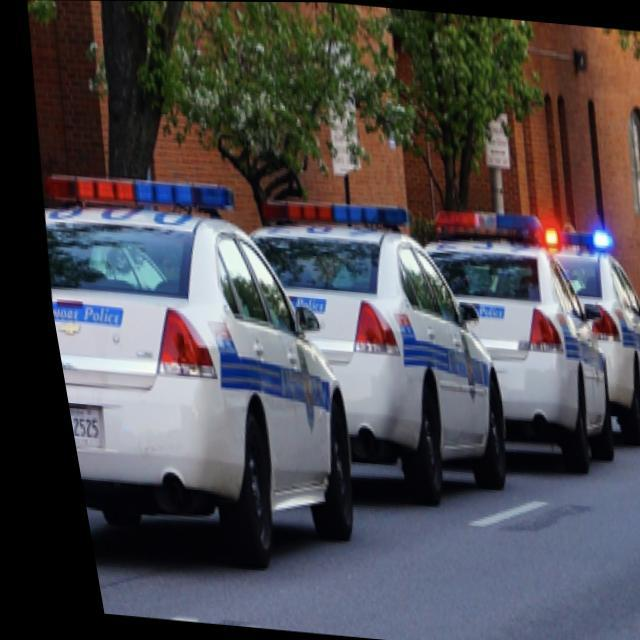license_plate: (52, 389, 94, 448)
